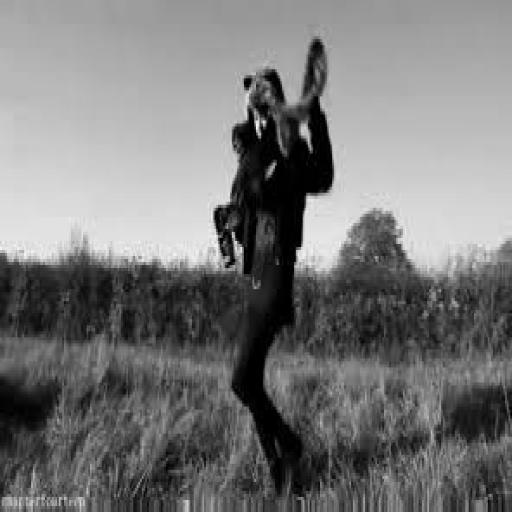dancing: (211, 33, 337, 500)
